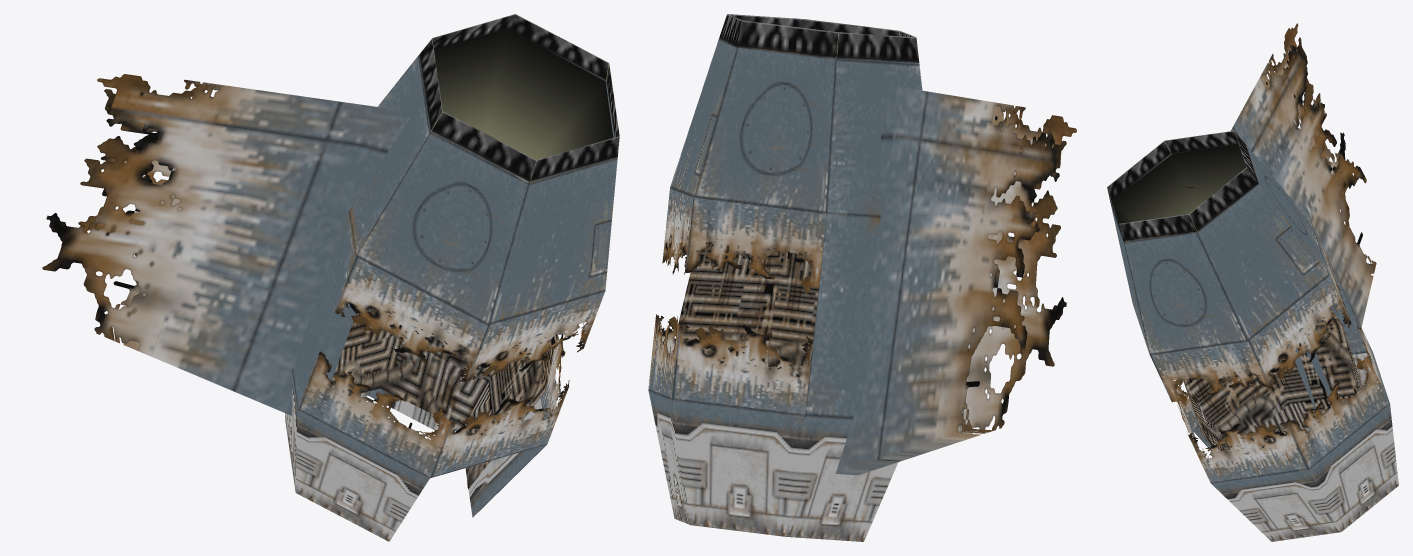
Rendered from crashengine.glb.
The picture shows the model from 3 angles, left to right: view 1: azimuth 30°, elevation 25°; view 2: azimuth 150°, elevation 25°; view 3: azimuth 270°, elevation 25°; orthographic projection. The views are drawn at different scales.
Parts seen in each view (by area): view 1: Crash Engine; view 2: Crash Engine; view 3: Crash Engine.
Part boxes in pixels (<box>): Crash Engine: <box>42,14,619,541</box>; Crash Engine: <box>648,14,1076,541</box>; Crash Engine: <box>1107,23,1398,541</box>.
Bounding box in the file's own units: 23.46 × 24.01 × 16.02.
5 materials, 5 textured.
